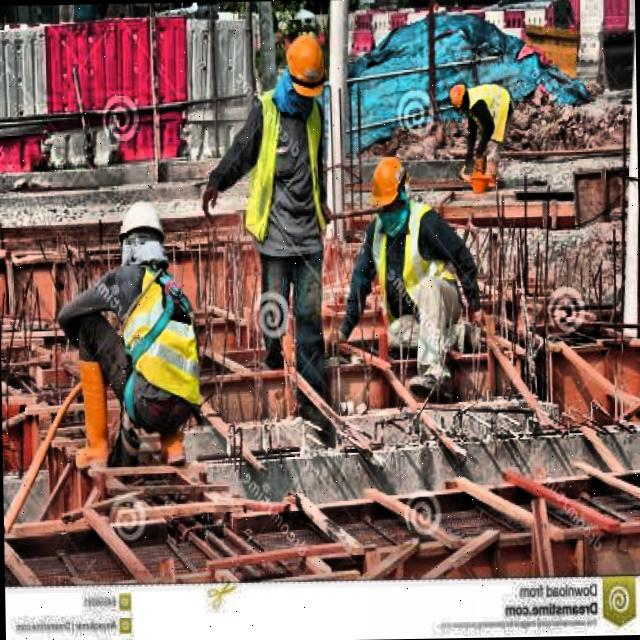helmet: (116, 195, 170, 282), (283, 29, 329, 98), (366, 151, 408, 218), (446, 80, 475, 114)
